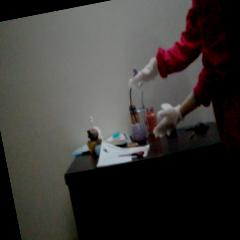gloved: (149, 106, 185, 139), (124, 56, 160, 88)
